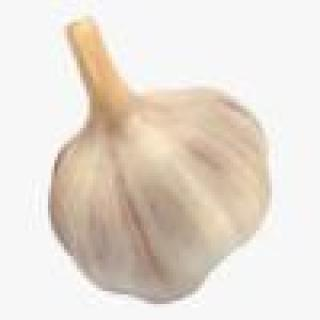Bawang Putih: (40, 14, 280, 292)
